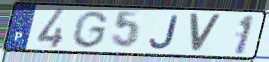1: (235, 14, 256, 56)
4: (35, 7, 67, 50)
5: (111, 10, 142, 52)
G: (70, 9, 111, 50)
J: (148, 14, 181, 51)
V: (187, 12, 224, 55)
